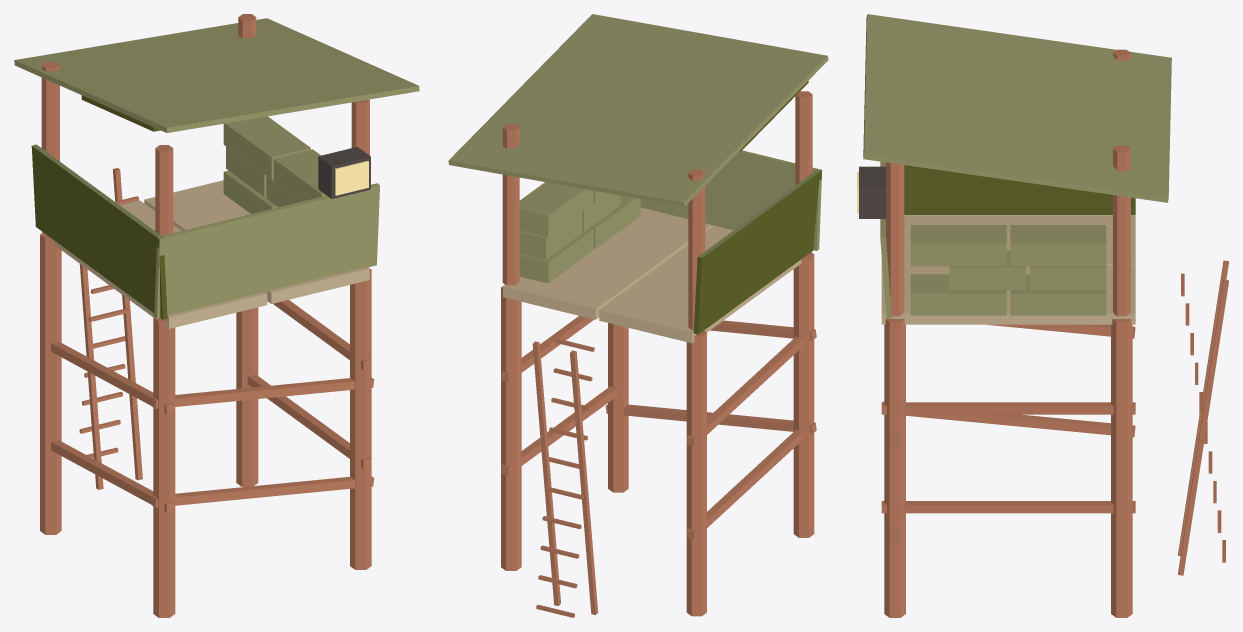
The model's file is SM_Torreta_v2_Improvisada_LOD0.fbx.
3 views of the same model, side by side, from view 1: azimuth 30°, elevation 25°; view 2: azimuth 150°, elevation 25°; view 3: azimuth 270°, elevation 25° (orthographic). The views are drawn at different scales.
Parts seen in each view (by area): view 1: SM_bloques.torreta_v2_LOD0, Luces; view 2: SM_bloques.torreta_v2_LOD0; view 3: SM_bloques.torreta_v2_LOD0.
Boxes of the visible parts, left/top/right/bottom form: SM_bloques.torreta_v2_LOD0: left=14, top=14, right=419, bottom=617; Luces: left=335, top=161, right=368, bottom=195; SM_bloques.torreta_v2_LOD0: left=448, top=14, right=828, bottom=617; SM_bloques.torreta_v2_LOD0: left=859, top=14, right=1228, bottom=617.
Size of the model in its own units: 3.2 by 6.07 by 4.1.
